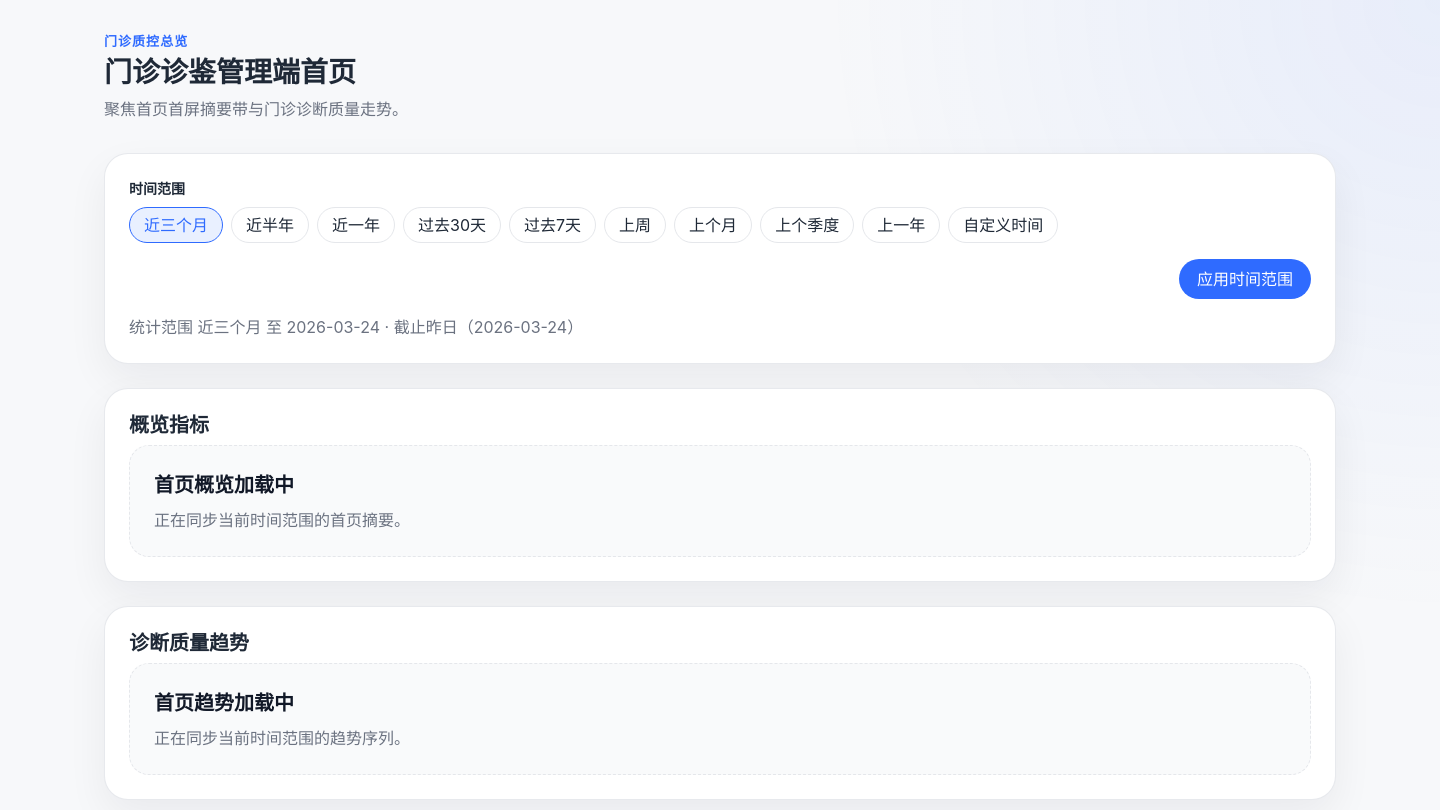
it: DashboardOverviewPage › updates page-level filters after applying a custom range
This screenshot has width=1440, height=810.
Click the button "自定义时间".
click(1003, 225)  # box [948,207,1058,243]
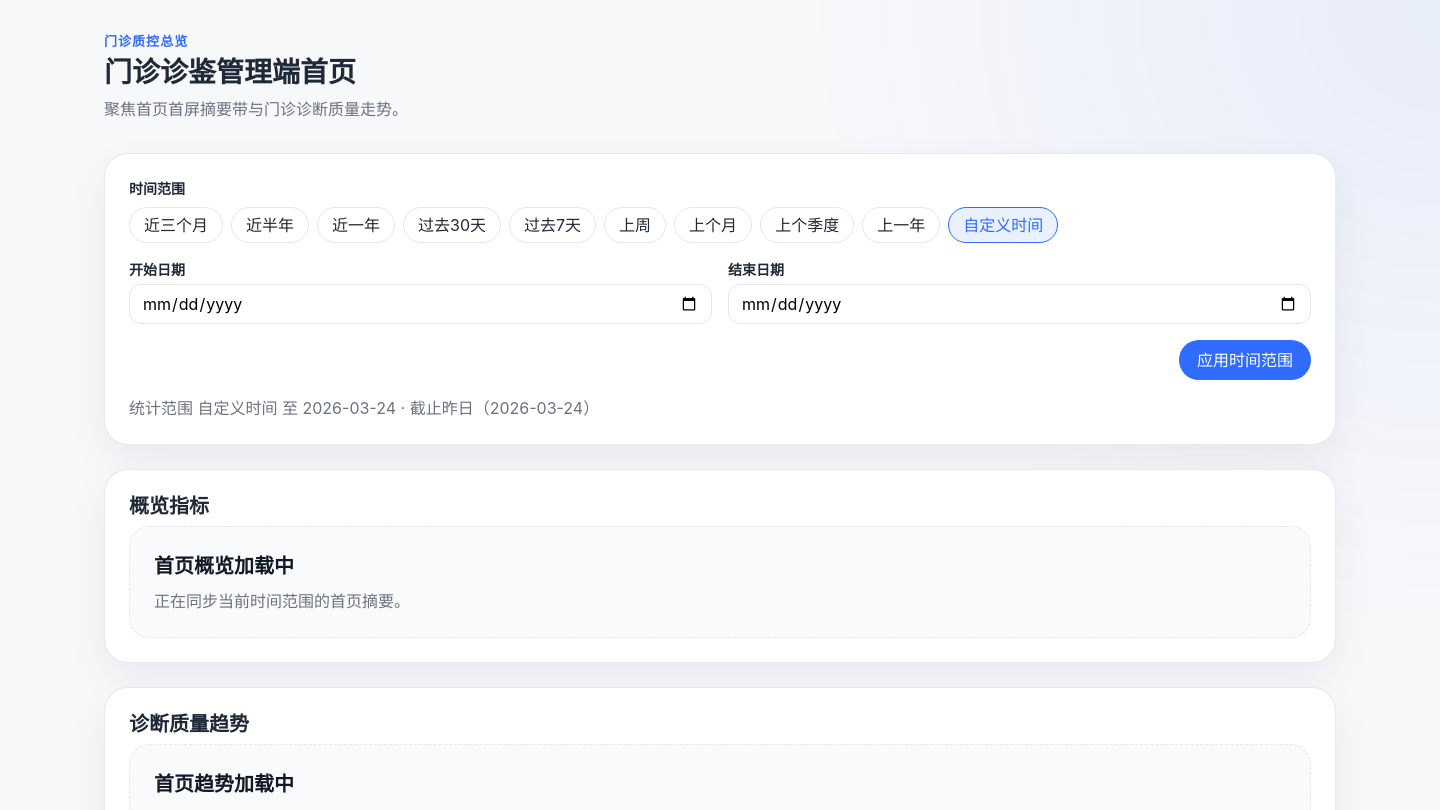
Type "2026-02-01" into the date field labelled "开始日期".
click(420, 304); type("2026-02-01")  # box [129,284,712,324]
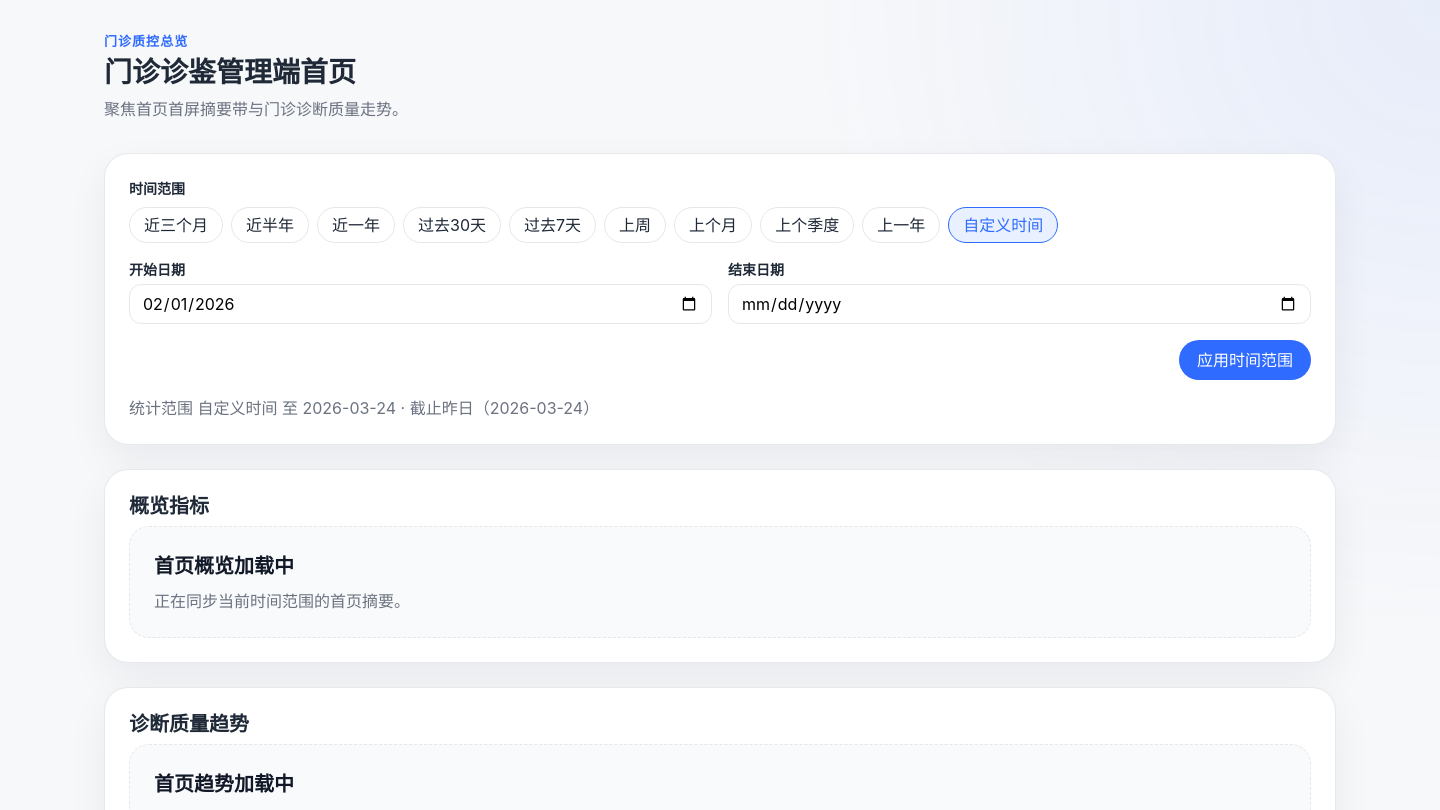
Type "2026-02-28" into the date field labelled "结束日期".
click(1020, 304); type("2026-02-28")  # box [728,284,1311,324]
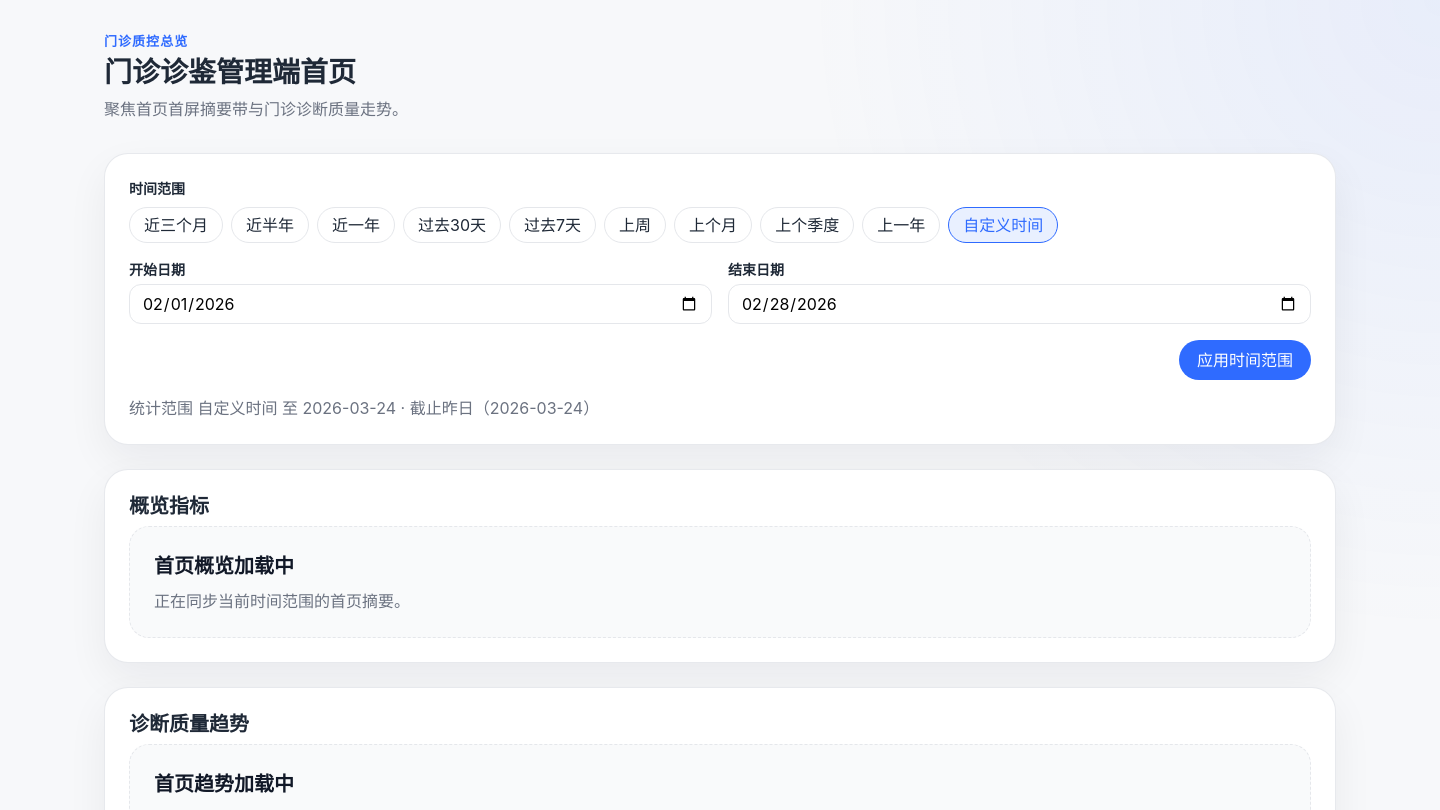
Click the button "应用时间范围".
click(1245, 360)  # box [1179,340,1311,380]
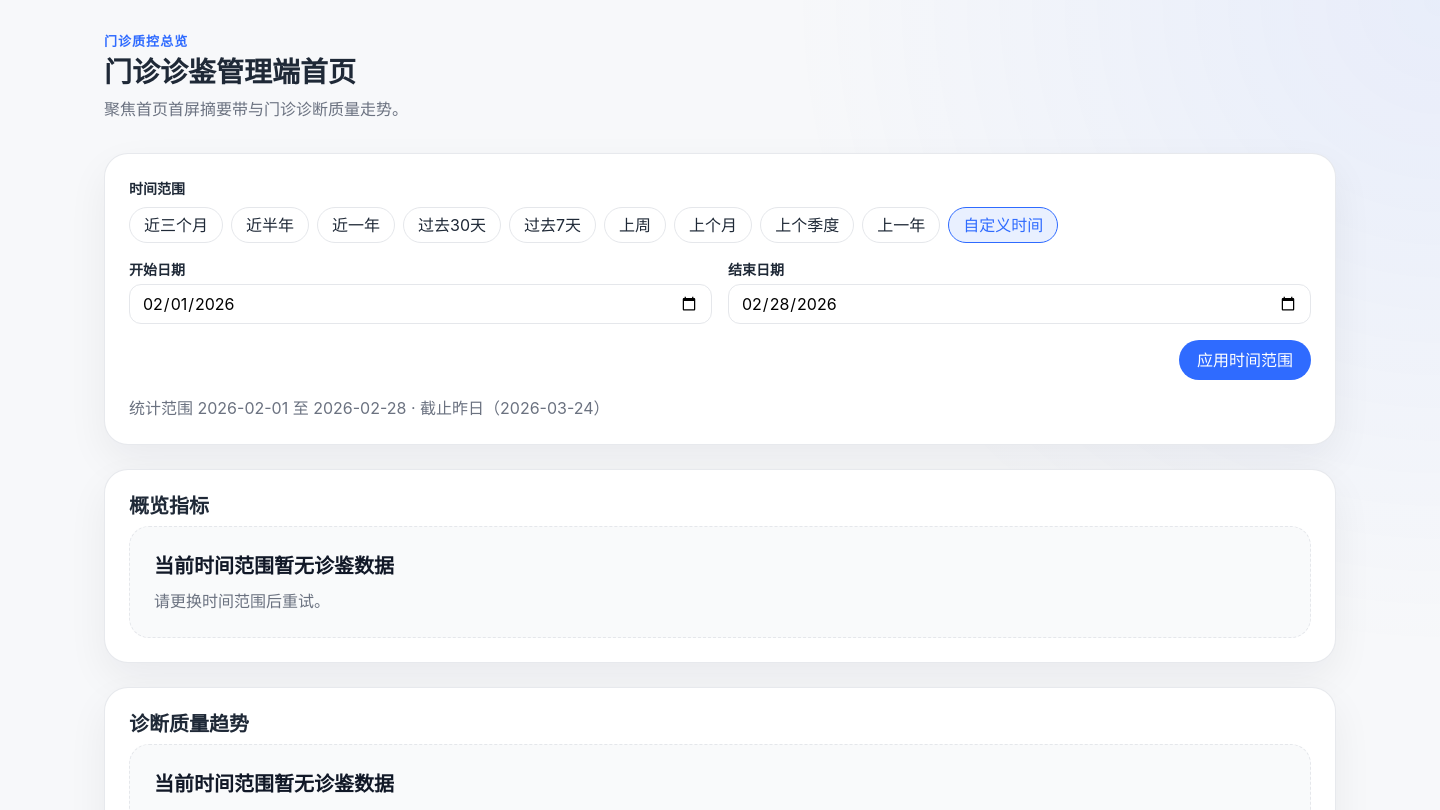
Expected: the text "统计范围 2026-02-01 至 2026-02-28 · 截止昨日（2026-03-24）" is shown, [129,398,610,418]
